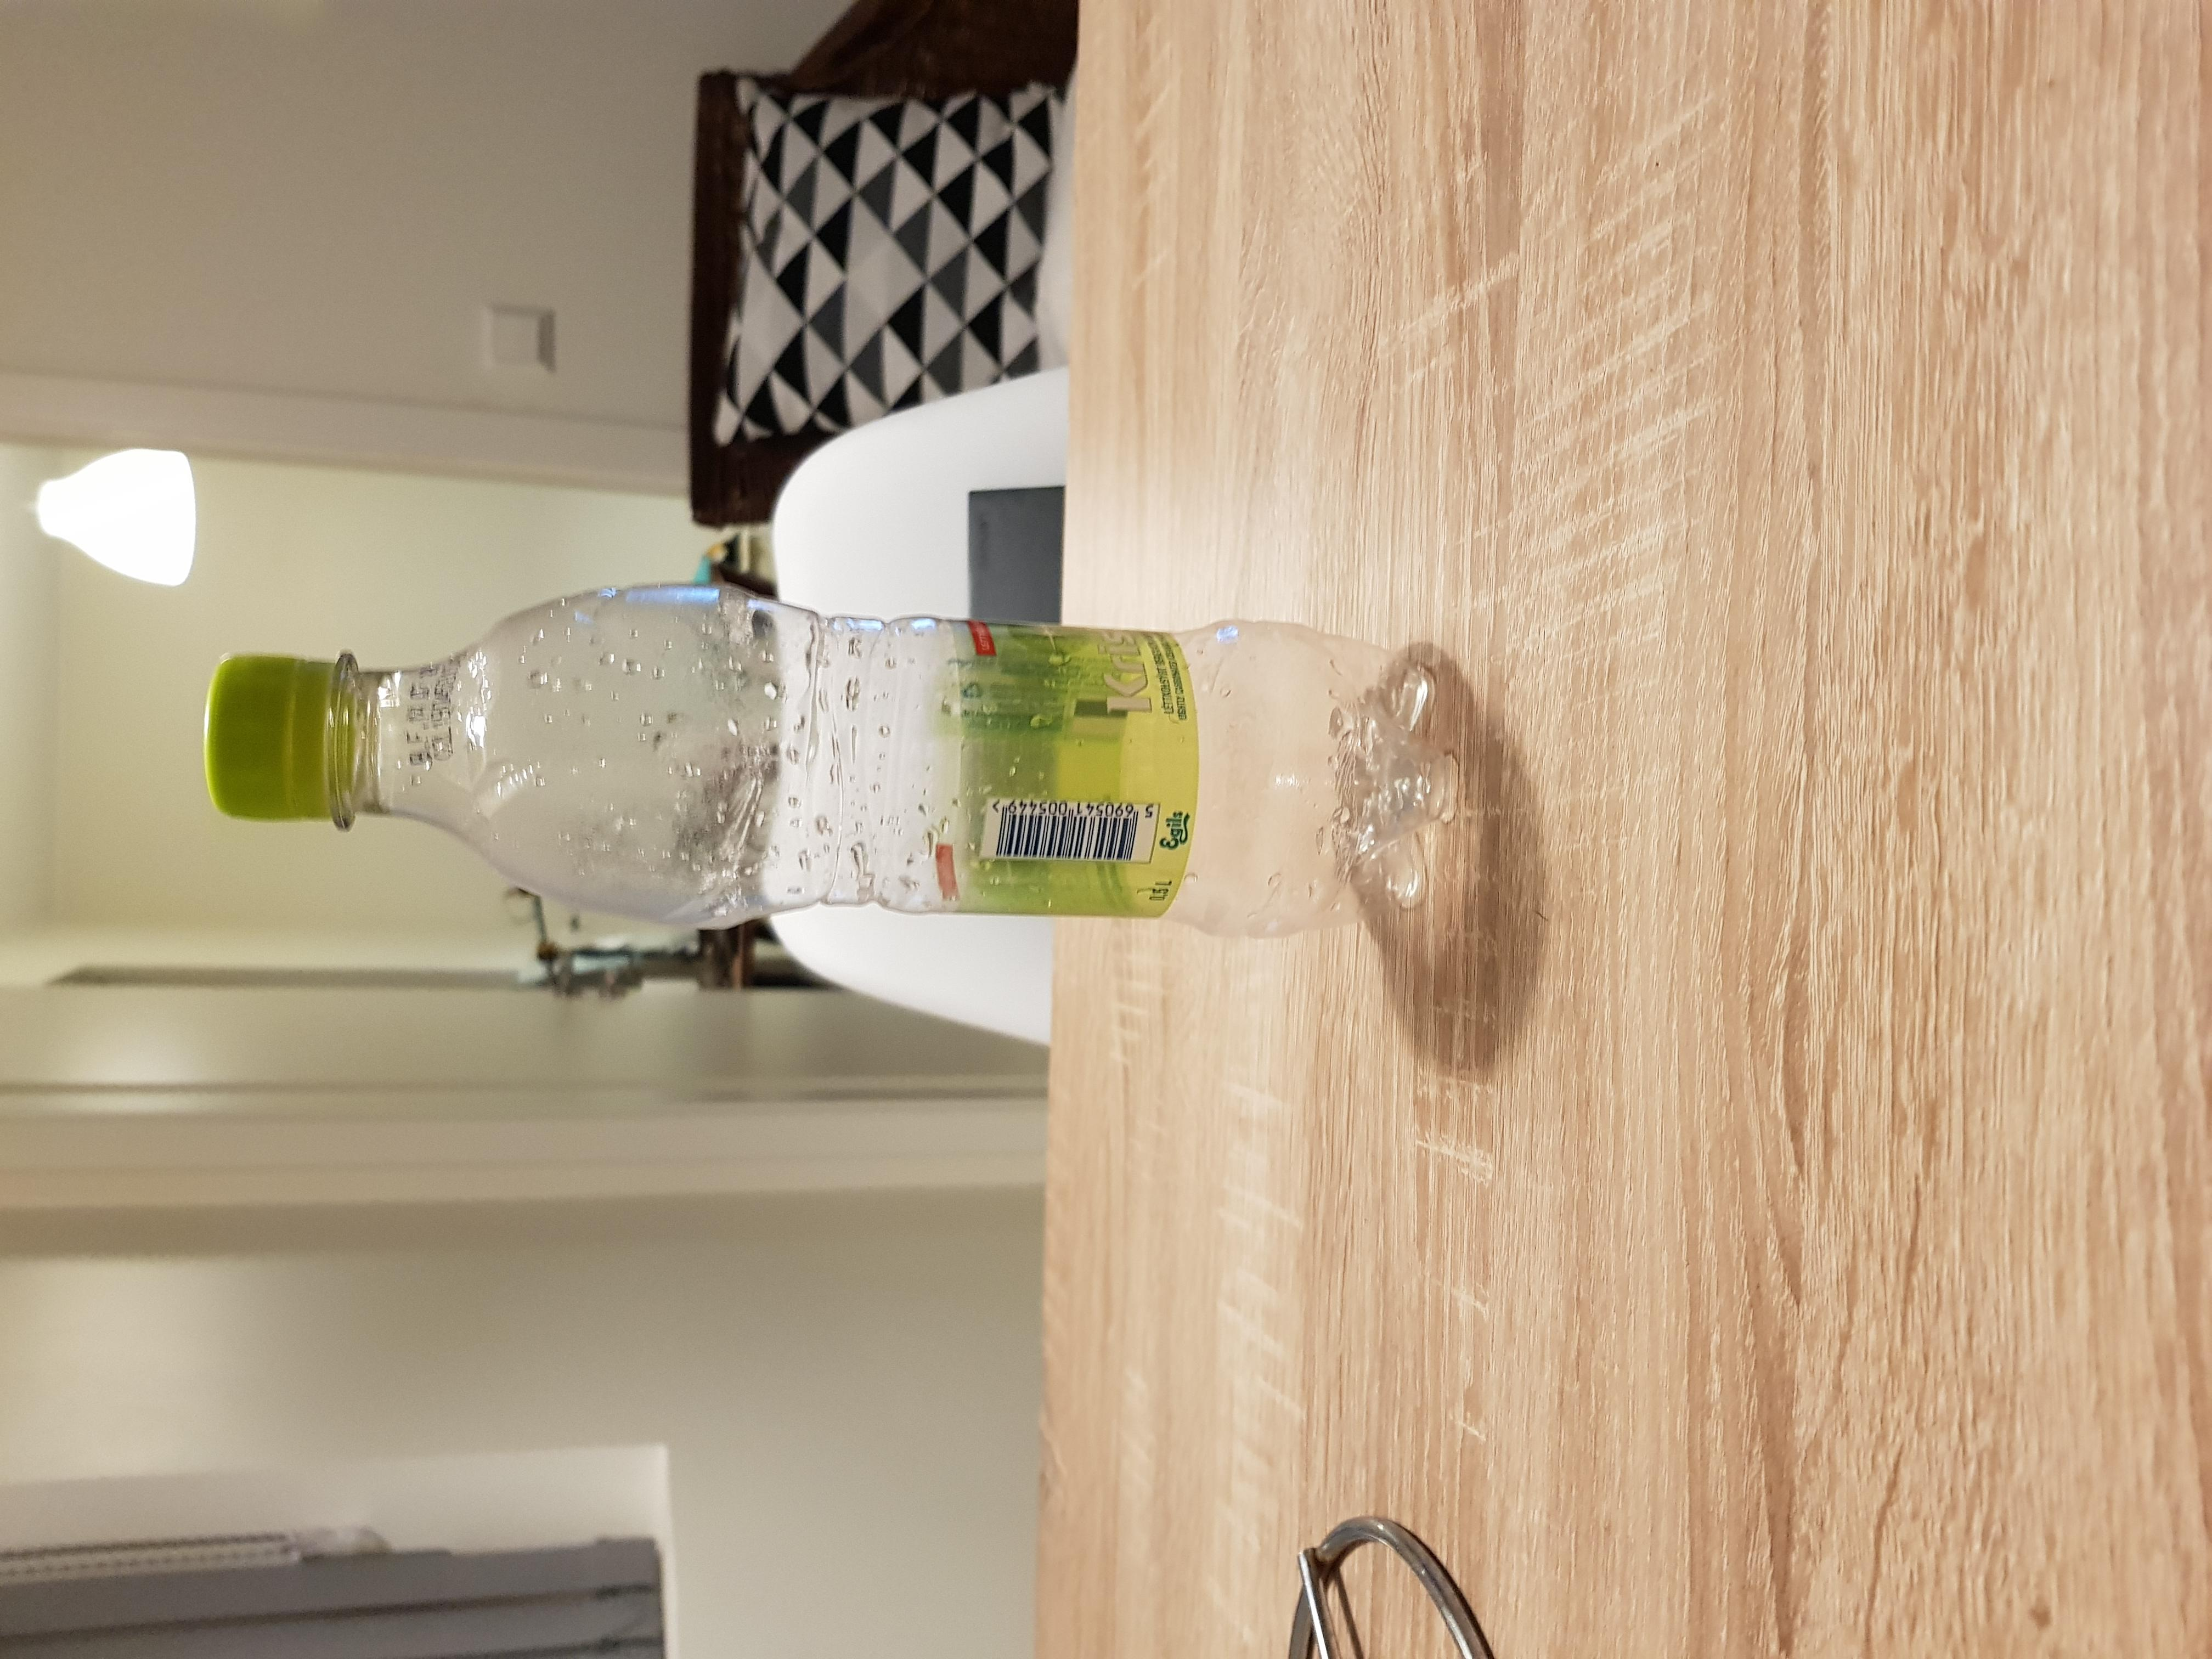bottle: (195, 570, 1460, 936)
